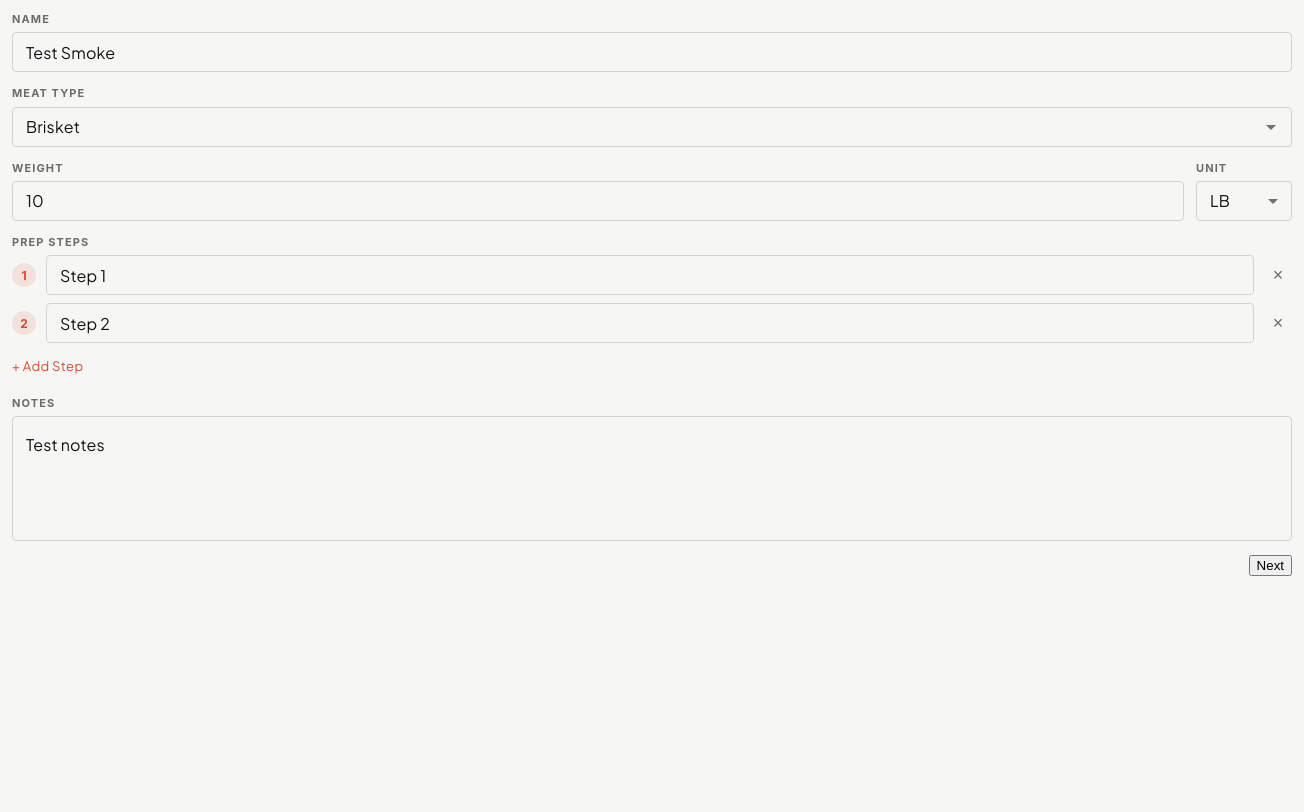
Scenario: PreSmokeStep › persists a weight unit switched from the LB default to OZ
Expected: the field showing "Test Smoke" is shown, top-left (12, 32), bottom-right (1292, 72)
Press the mouse on the dropdown with test id "presmoke-weight-unit-select" at (1220, 201), box top-left (1210, 190), bottom-right (1230, 211)
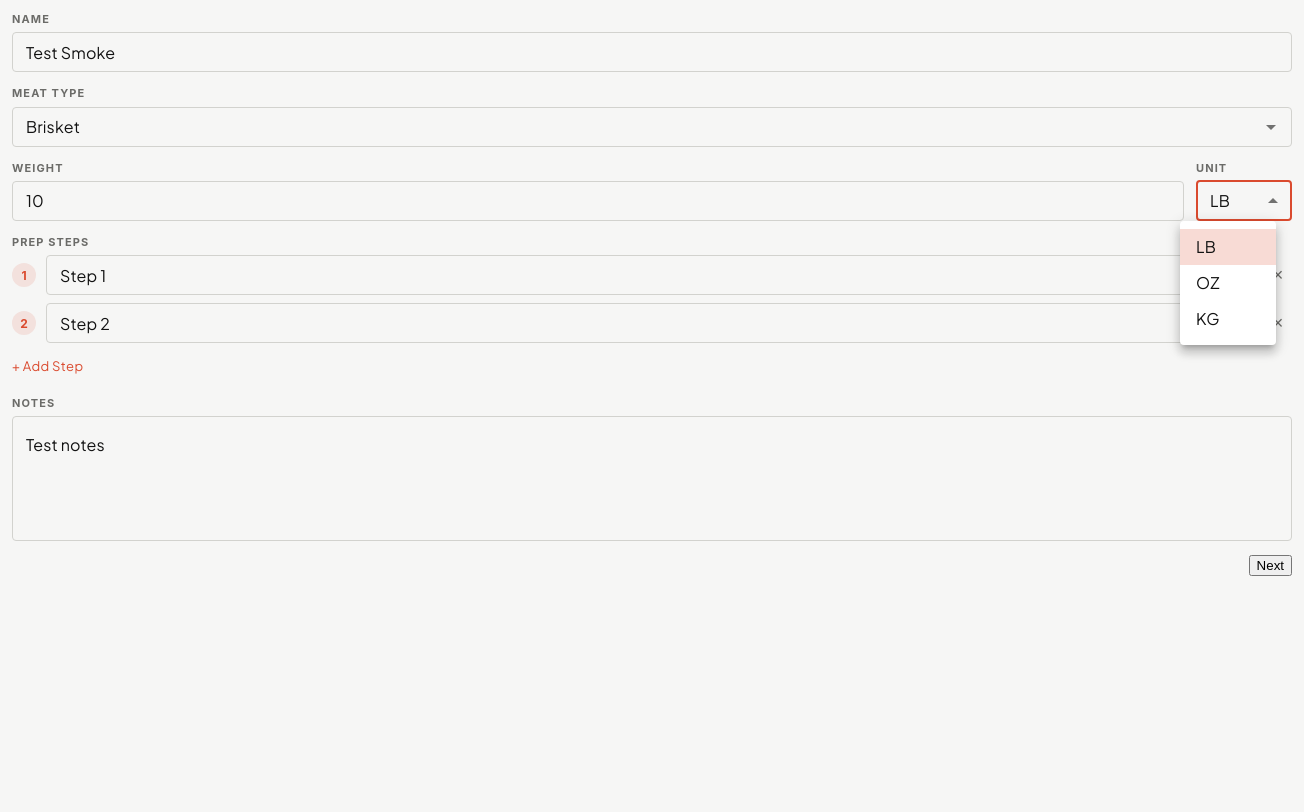
Click the option with test id "presmoke-weight-unit-option-OZ" at (1208, 282), box top-left (1196, 272), bottom-right (1220, 293)
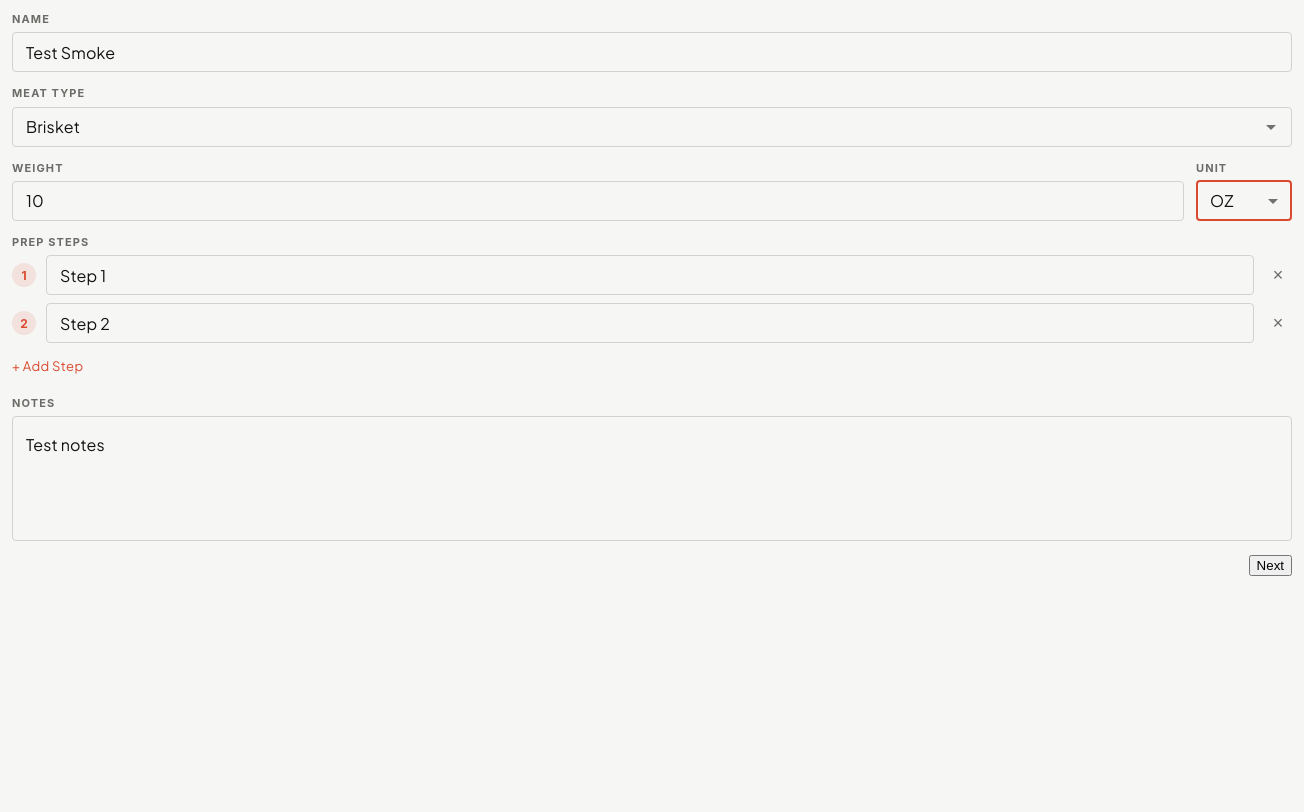
Now the dropdown with test id "presmoke-weight-unit-select" reads "OZ", box top-left (1210, 190), bottom-right (1234, 211)
